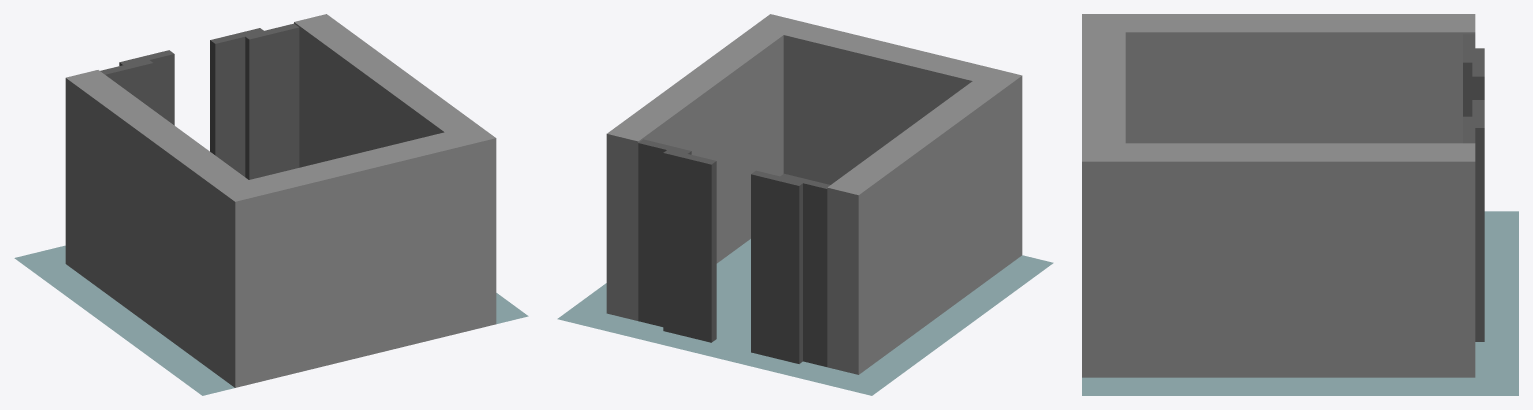
The model's file is liftmedaddy.fbx.
3 renders of one model, left to right at view 1: azimuth 30°, elevation 25°; view 2: azimuth 150°, elevation 25°; view 3: azimuth 270°, elevation 25°, orthographic. The views are drawn at different scales.
Visible parts, largest first — view 1: pPlane1, pCube1, pCube3, pCube4, pCube2; view 2: pPlane1, pCube3, pCube4, pCube1, pCube2; view 3: pPlane1, pCube3, pCube2, pCube4.
Boxes of the visible parts, x1,y1,x2,y2 form: pPlane1: (14,14,528,395); pCube1: (244,23,299,179); pCube3: (210,28,264,176); pCube4: (119,50,174,125); pCube2: (100,59,153,109); pPlane1: (557,14,1053,395); pCube3: (663,150,716,342); pCube4: (751,170,802,363); pCube1: (638,139,691,326); pCube2: (779,173,830,366); pPlane1: (1082,14,1518,395); pCube3: (1472,100,1484,341); pCube2: (1463,34,1475,116); pCube4: (1472,48,1484,99).
Bounding box in the file's own units: 6.6 × 3.6 × 6.6.
